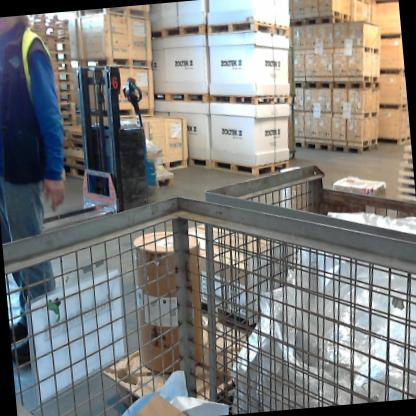pallet: (206, 81, 292, 117), (204, 16, 289, 45), (210, 151, 291, 179), (151, 84, 209, 111), (285, 11, 351, 32), (150, 20, 210, 43), (332, 76, 382, 95), (331, 139, 379, 156), (40, 30, 72, 53), (61, 161, 90, 183), (147, 171, 181, 189), (305, 137, 334, 155), (187, 154, 214, 173), (57, 152, 87, 169), (304, 75, 335, 91), (41, 49, 72, 65), (27, 23, 68, 35), (60, 125, 93, 139), (58, 134, 88, 147), (49, 67, 73, 83), (54, 86, 75, 103), (52, 77, 74, 92), (48, 59, 73, 72), (57, 99, 75, 114), (58, 111, 75, 124), (291, 137, 306, 151), (292, 75, 305, 88)
pallet_truck: (0, 52, 159, 242)
stillage: (3, 182, 416, 416), (189, 143, 416, 413)
